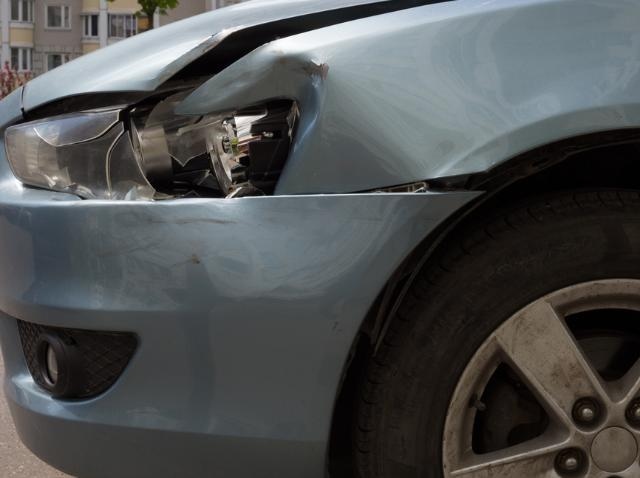Bonnet: (0, 0, 461, 129)
Fender: (207, 0, 640, 193)
Light: (14, 82, 308, 202)
